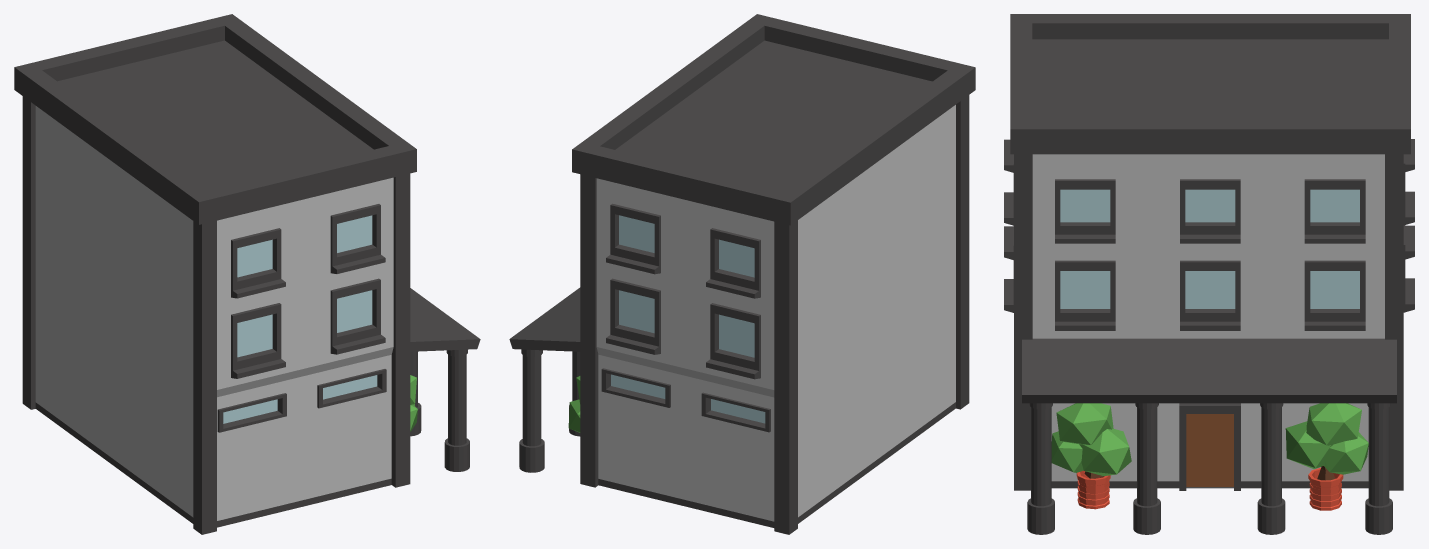
Rendered from main_building01.fbx.
The picture shows the model from 3 angles, left to right: view 1: azimuth 30°, elevation 25°; view 2: azimuth 150°, elevation 25°; view 3: azimuth 270°, elevation 25°; orthographic projection. The views are drawn at different scales.
Parts seen in each view (by area): view 1: Cylinder.004; view 2: Cylinder.004; view 3: Cylinder.004.
Part boxes in pixels (x1,y1,x2,y2): Cylinder.004: (14, 14, 480, 534); Cylinder.004: (509, 14, 975, 534); Cylinder.004: (1004, 14, 1414, 534).
Bounding box in the file's own units: 1152 × 1310 × 1315.
